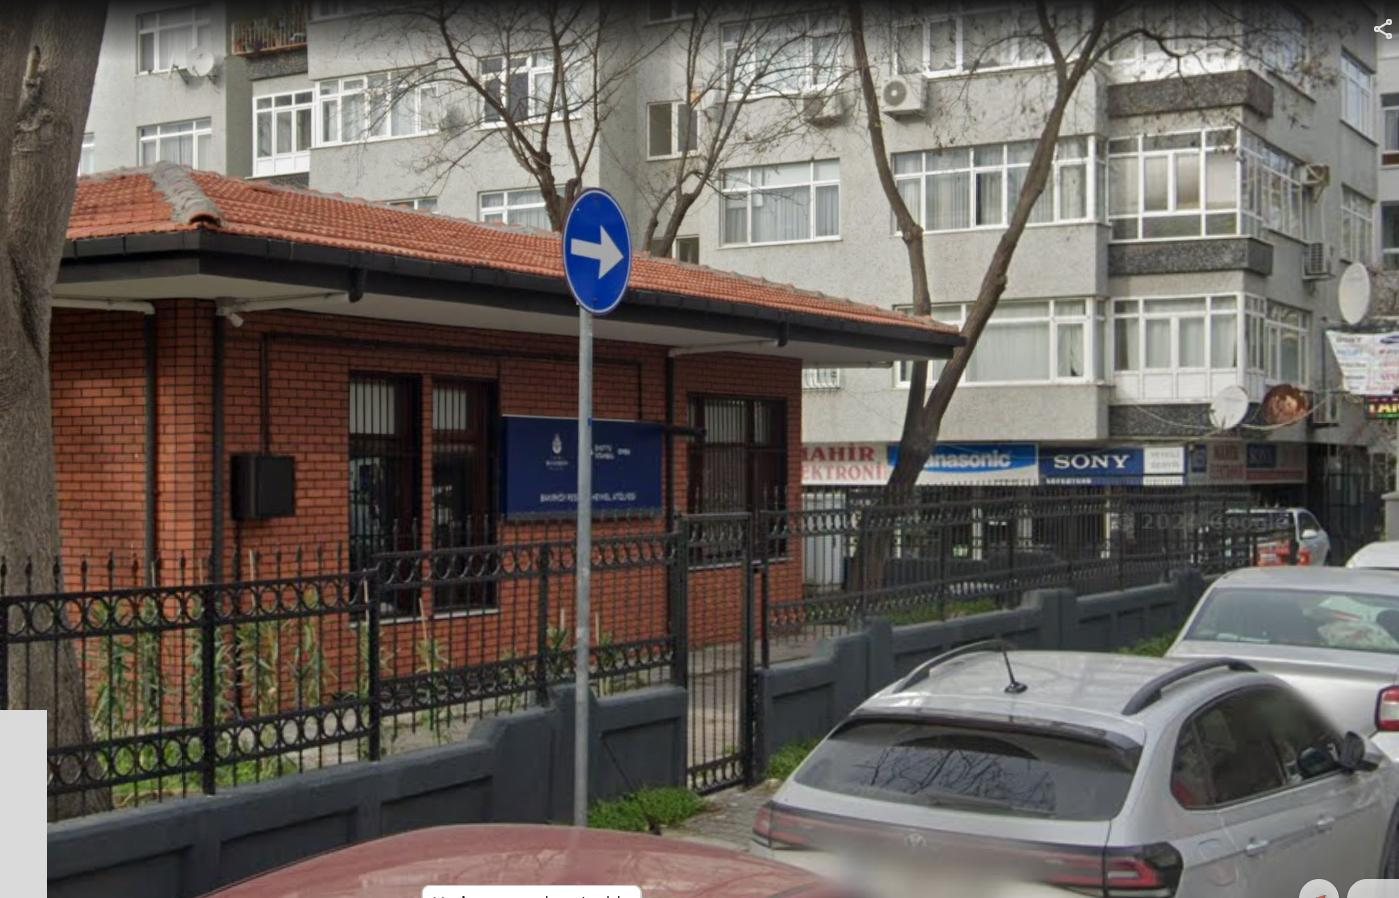turnright: (568, 190, 629, 306)
